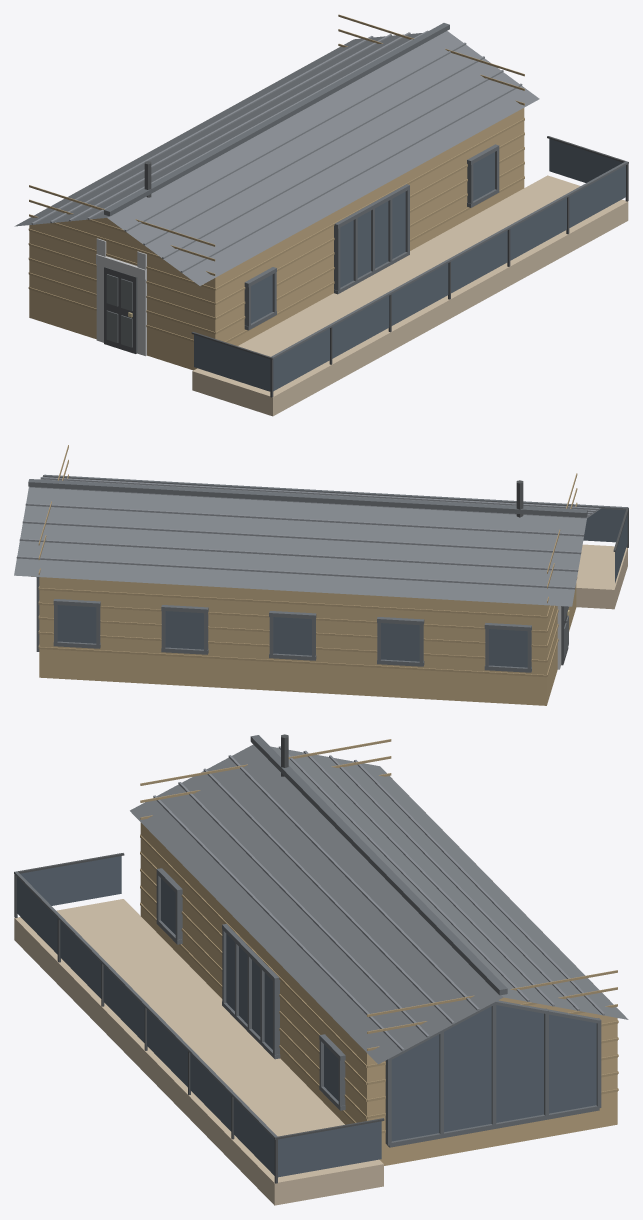
The picture shows the model from 3 angles, top to bottom: view 1: azimuth 30°, elevation 25°; view 2: azimuth 150°, elevation 25°; view 3: azimuth 270°, elevation 25°; orthographic projection. The views are drawn at different scales.
Parts seen in each view (by area): view 1: slate, door_wood, larch, slate_dk, slate_lt, door_wood_p, window_glass_007, stone_band, window_glass_003, window_glass_002, window_glass_001, window_glass_004 (+12 smaller); view 2: slate, door_wood, slate_dk, slate_lt, door_wood_p, larch, window_glass_016, window_glass_017, window_glass_018, window_glass_019, window_glass_020, window_glass_001 (+2 smaller); view 3: slate, larch, window_glass_015, door_wood, slate_dk, slate_lt, door_wood_p, window_glass_008, window_glass_007, pipe, window_glass_006, window_glass_001 (+6 smaller).
Boxes of the visible parts, x1,y1,x2,y2 form: slate: (14, 31, 539, 285); door_wood: (29, 108, 524, 370); larch: (192, 175, 628, 416); slate_dk: (104, 23, 628, 359); slate_lt: (31, 30, 522, 272); door_wood_p: (28, 14, 524, 342); window_glass_007: (194, 334, 270, 391); stone_band: (96, 238, 146, 356); window_glass_003: (391, 263, 448, 325); window_glass_002: (332, 296, 389, 358); window_glass_001: (273, 328, 329, 391); window_glass_004: (451, 230, 507, 293); slate: (14, 477, 601, 606); door_wood: (39, 577, 576, 705); slate_dk: (28, 474, 627, 672); slate_lt: (16, 477, 598, 589); door_wood_p: (38, 445, 577, 677); larch: (31, 544, 627, 609); window_glass_016: (57, 605, 96, 643); window_glass_017: (165, 611, 203, 649); window_glass_018: (273, 617, 311, 655); window_glass_019: (381, 623, 419, 661); window_glass_020: (489, 629, 527, 667); window_glass_001: (583, 509, 625, 542); slate: (130, 744, 628, 1064); larch: (14, 899, 383, 1205); window_glass_015: (391, 1005, 596, 1141); door_wood: (140, 778, 617, 1165); slate_dk: (14, 735, 601, 1147); slate_lt: (153, 746, 604, 1051); door_wood_p: (140, 739, 618, 1133); window_glass_008: (278, 1121, 381, 1177); window_glass_007: (20, 856, 121, 905); pipe: (14, 734, 384, 1183); window_glass_006: (233, 1098, 274, 1175); window_glass_001: (16, 877, 57, 954).
Size of the model in its own units: 15.53 by 4.45 by 12.47.
